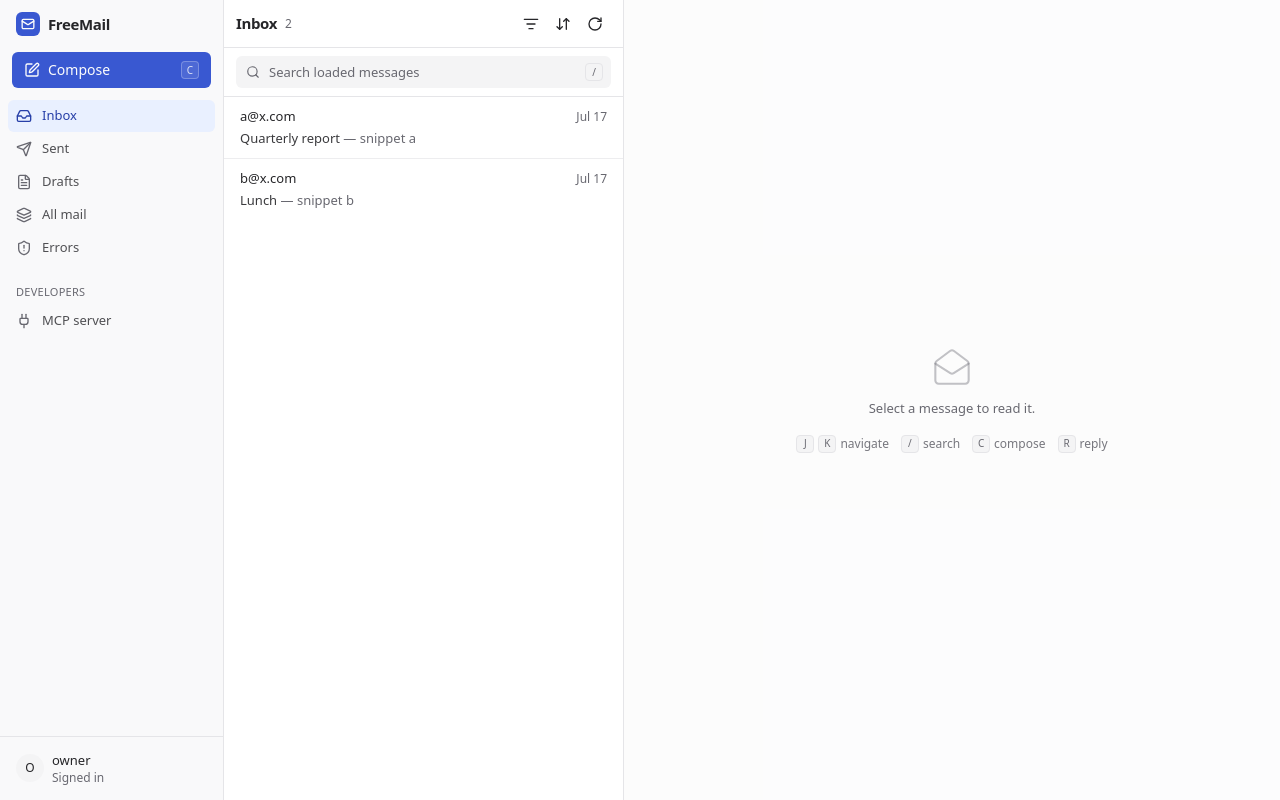
Test: AppShell — message list › searches the loaded messages
Check: the text "Quarterly report" is shown, box [240,128,340,146]
Type "quarter" into the search field named "Search messages" at (424, 72), box [236,56,611,88]
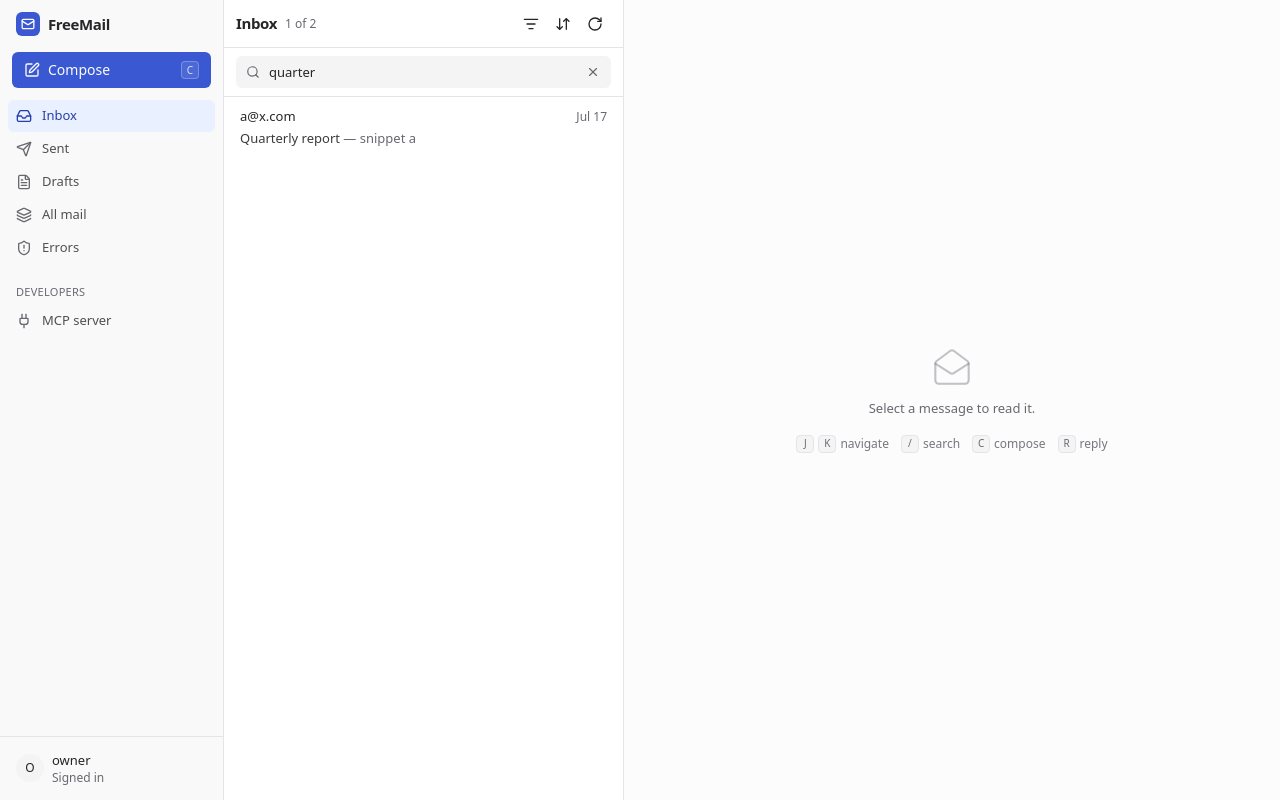
Check: the button "Lunch" is gone
Replace the text in the search field named "Search messages" with "zzz" at (424, 72), box [236,56,611,88]
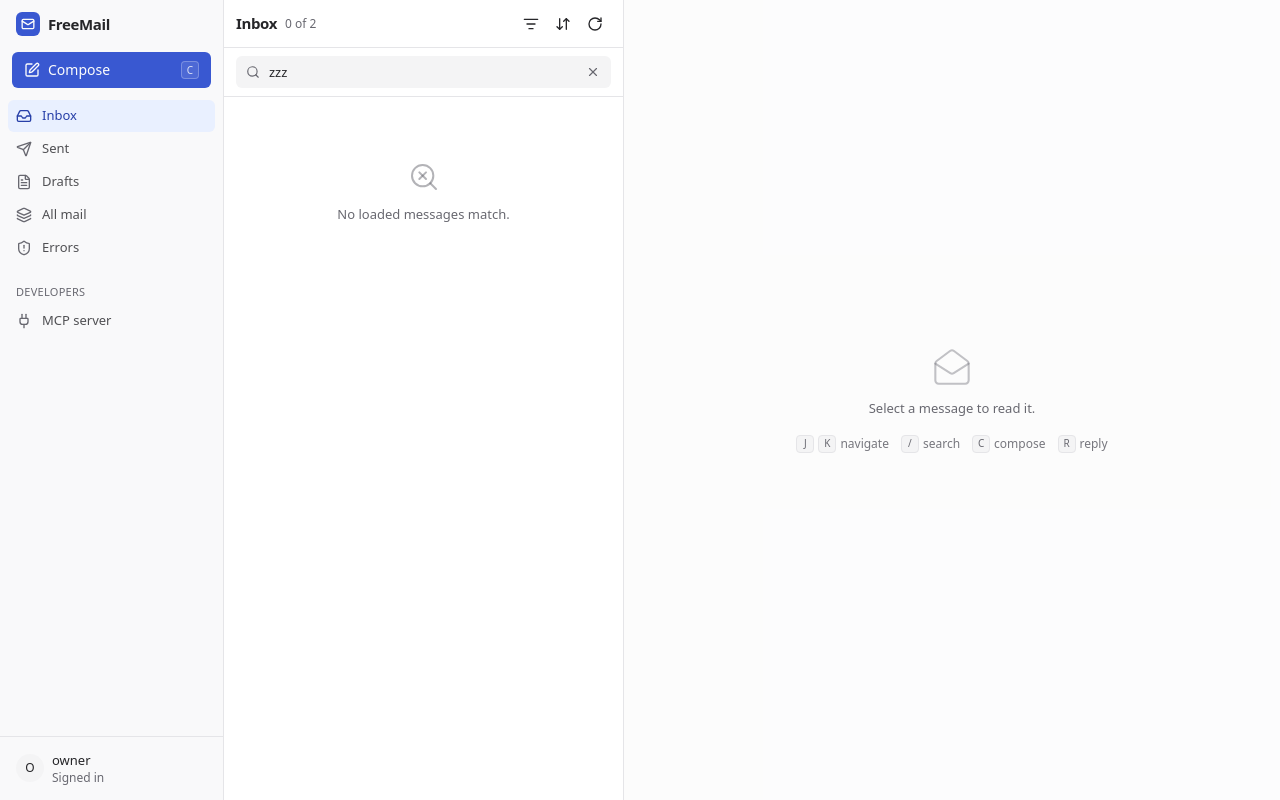
Check: the text "No loaded messages match." is shown, box [337,205,510,224]
